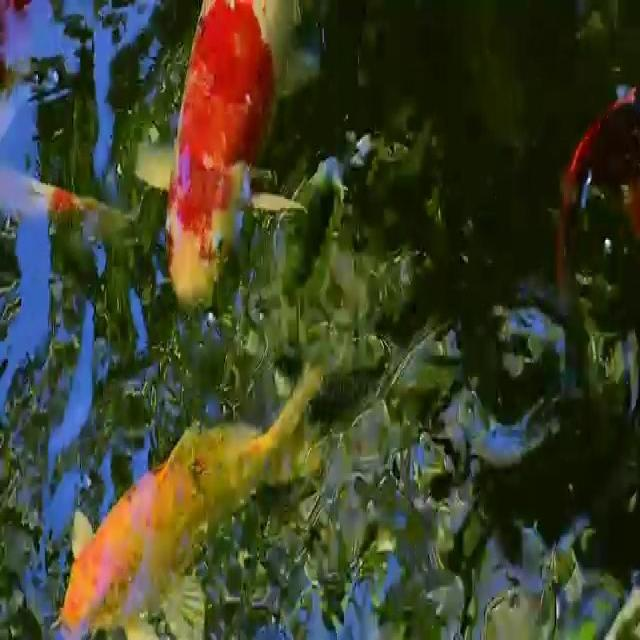fish: (55, 366, 327, 640), (133, 0, 320, 308)
